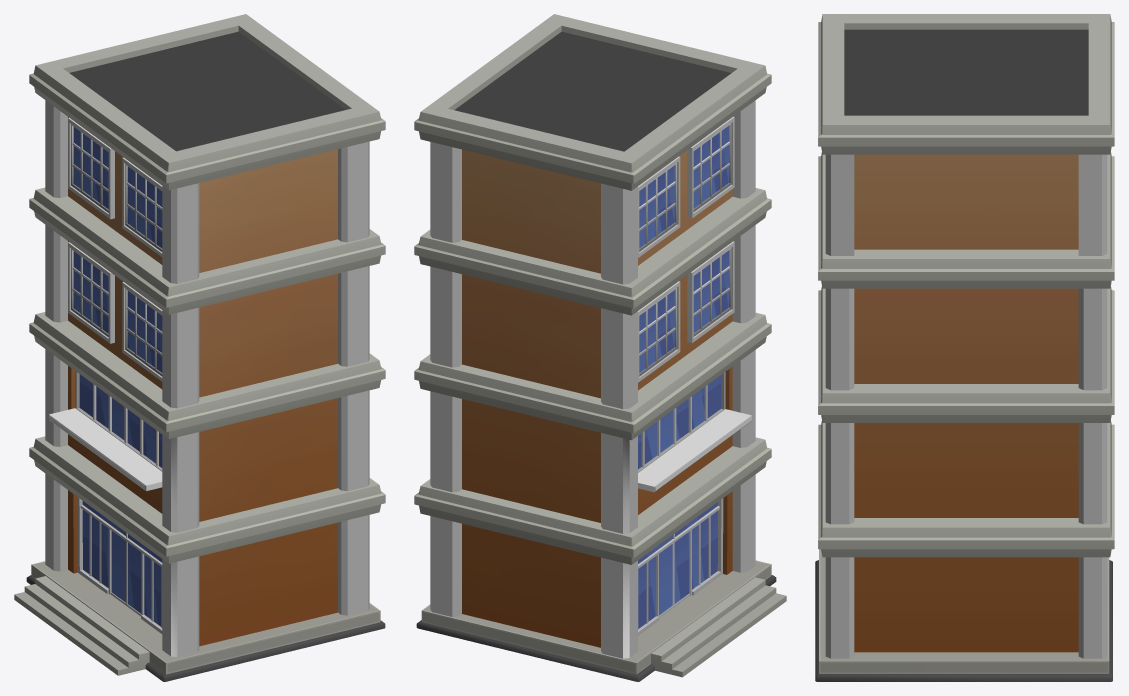
File: Building_9_1_N.fbx
The picture shows the model from 3 angles, left to right: view 1: azimuth 30°, elevation 25°; view 2: azimuth 150°, elevation 25°; view 3: azimuth 270°, elevation 25°; orthographic projection. The views are drawn at different scales.
Parts seen in each view (by area): view 1: Building_9_1_N; view 2: Building_9_1_N; view 3: Building_9_1_N.
Part boxes in pixels (x1,y1,x2,y2): Building_9_1_N: (14, 14, 385, 681); Building_9_1_N: (414, 14, 786, 681); Building_9_1_N: (815, 14, 1114, 681).
Bounding box in the file's own units: 947 × 1855 × 906.
